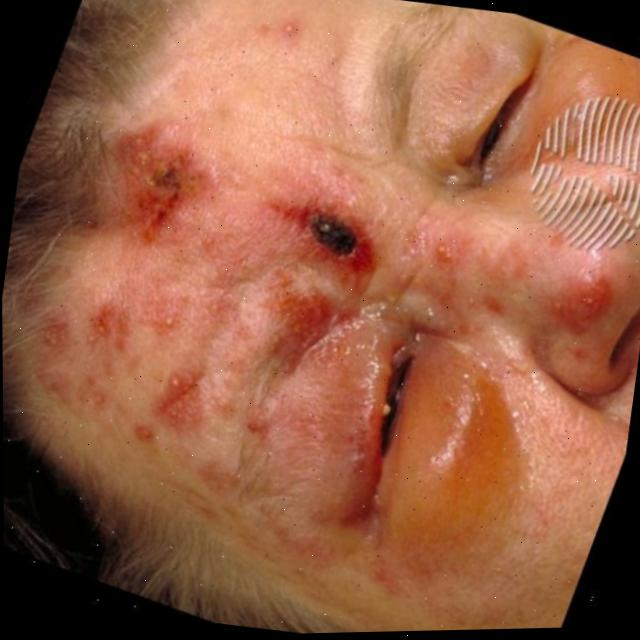Shingles: (69, 108, 371, 485)
